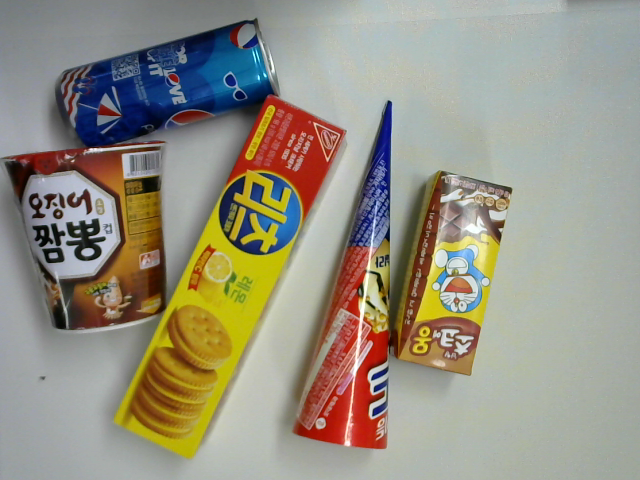Choco_E_Mong: (388, 171, 519, 380)
Ojjam: (1, 138, 178, 336)
Pepsi_Cola_Can_250ml: (47, 13, 284, 153)
Ritz_Remon_96g: (108, 93, 352, 463)
World_Cone_Banila: (292, 93, 402, 458)
